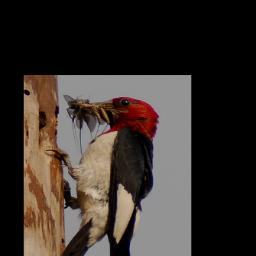Woodpecker: (46, 96, 159, 256)
